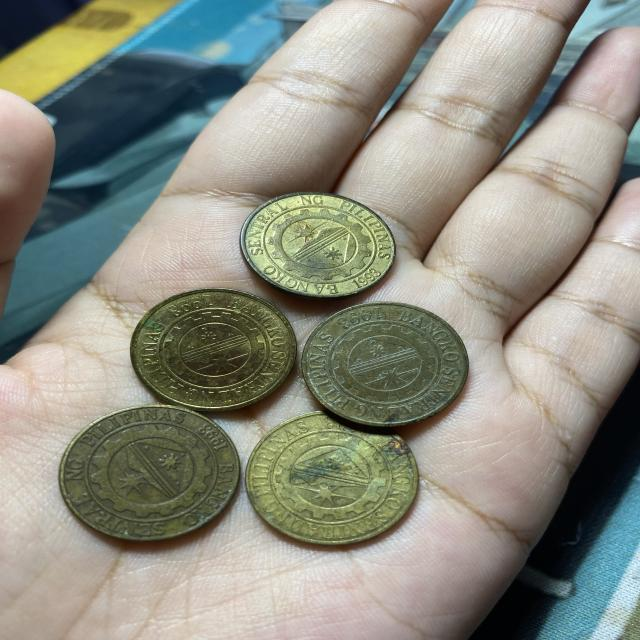25Cent_Old_Back: (67, 402, 237, 540), (251, 414, 418, 542), (304, 301, 472, 421), (140, 288, 291, 402), (245, 189, 392, 293)
